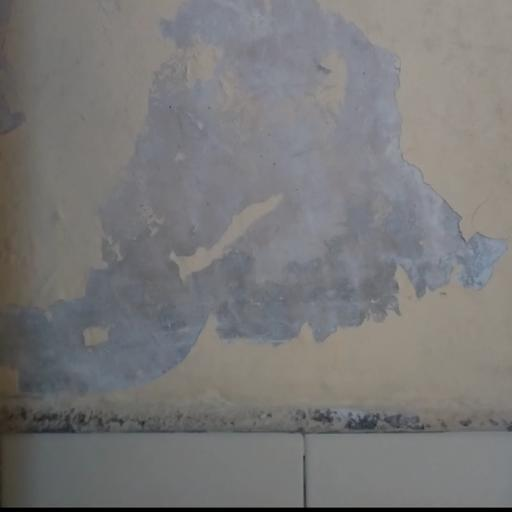peeling: (0, 0, 500, 395)
